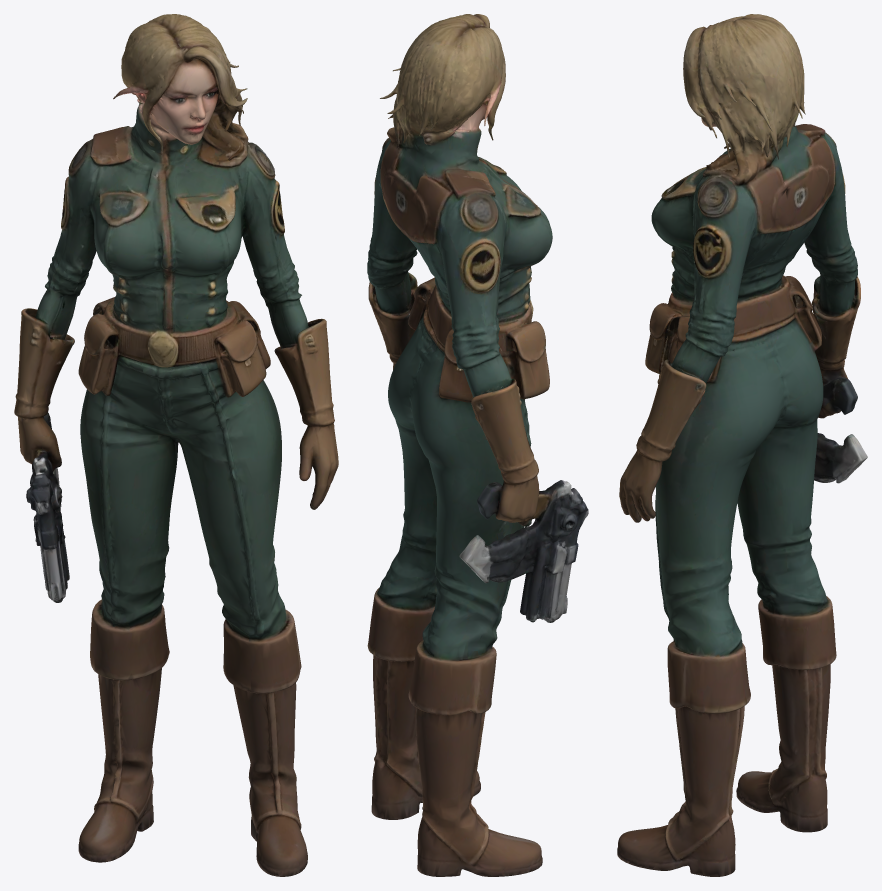
The model's file is eva.glb.
3 views of the same model, side by side, from view 1: azimuth 30°, elevation 25°; view 2: azimuth 150°, elevation 25°; view 3: azimuth 270°, elevation 25° (orthographic).
Size of the model in its own units: 0.6117 by 1.9 by 0.5325.
Materials: 1 (1 with a texture image).
